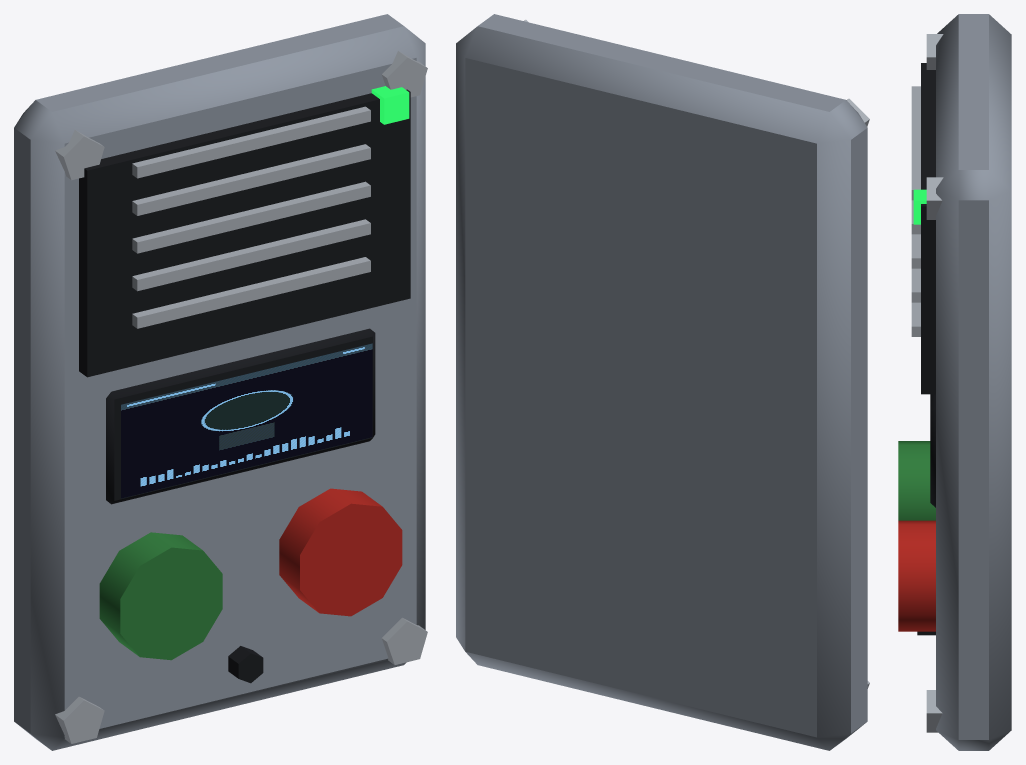
The model's file is commsunit_intercom_panel.glb.
3 views of the same model, side by side, from view 1: azimuth 30°, elevation 25°; view 2: azimuth 150°, elevation 25°; view 3: azimuth 270°, elevation 25° (orthographic). The views are drawn at different scales.
Visible parts, largest first — view 1: commsunit_intercom_panel; view 2: commsunit_intercom_panel; view 3: commsunit_intercom_panel.
Boxes of the visible parts, box(x1,y1,x2,y2) form: commsunit_intercom_panel: box(14, 14, 427, 750); commsunit_intercom_panel: box(456, 14, 869, 750); commsunit_intercom_panel: box(898, 14, 1011, 750).
Bounding box in the file's own units: 0.22 × 0.34 × 0.06.
7 materials, 1 textured.
